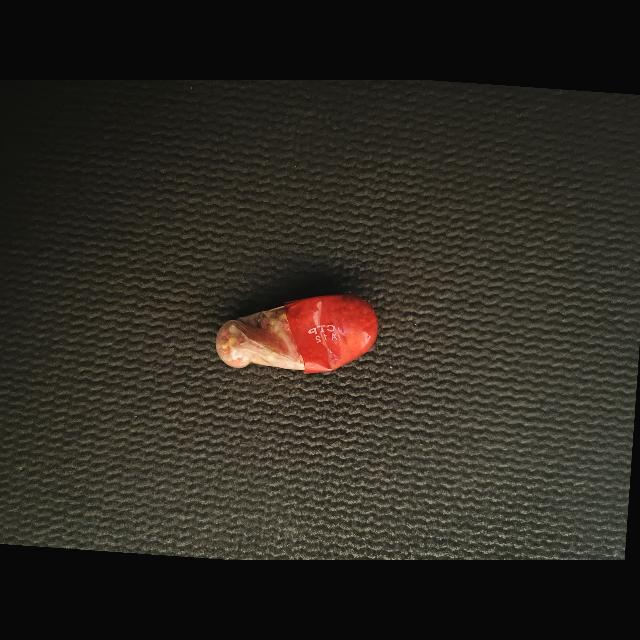Defective Capsule: (216, 295, 378, 374)
